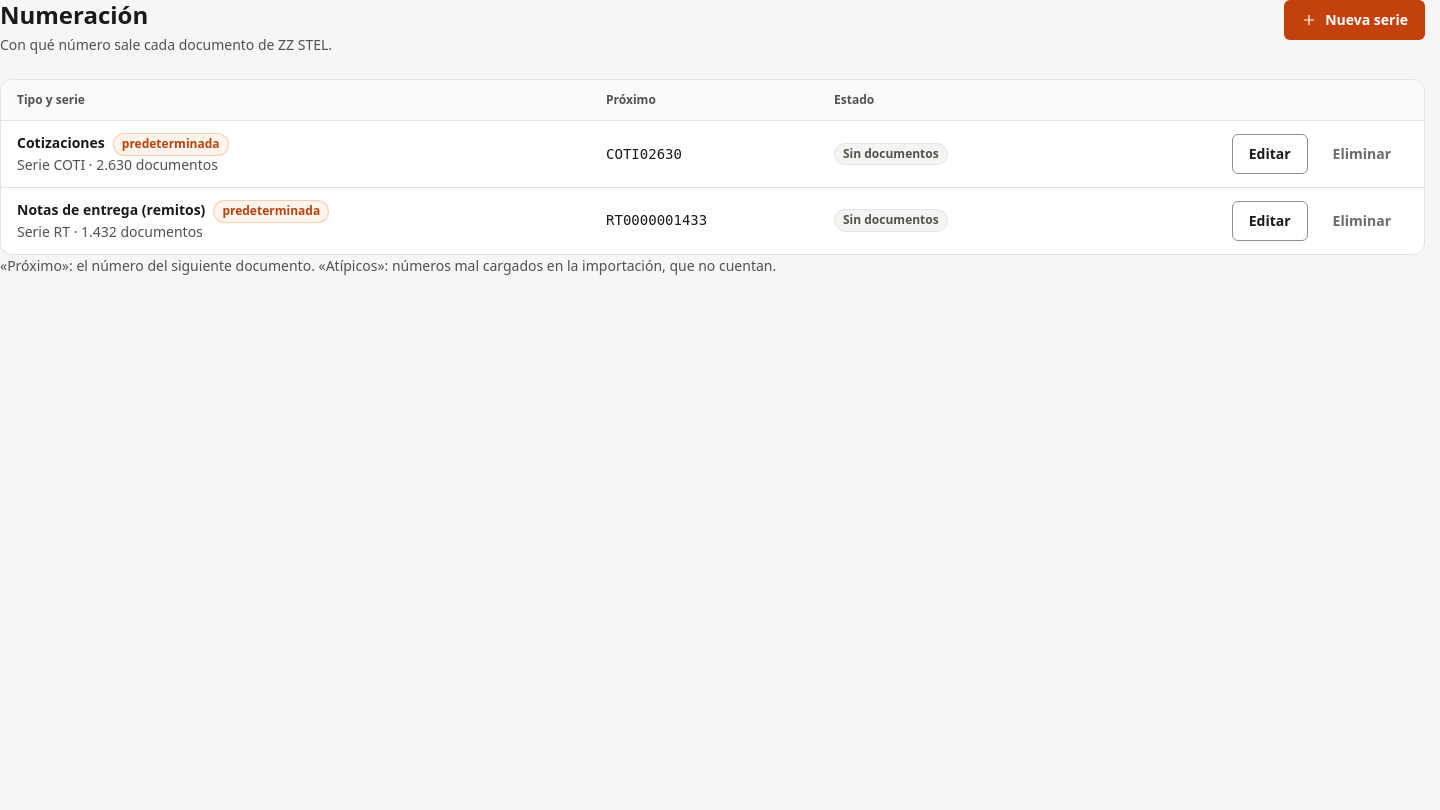
Numeración: editar (Fase 58 · E3) › un prefijo con espacios tampoco sale
The image size is (1440, 810).
Click the button "Editar" in the row of "Cotizaciones": (1270,154) x1=1232 y1=134 x2=1308 y2=174
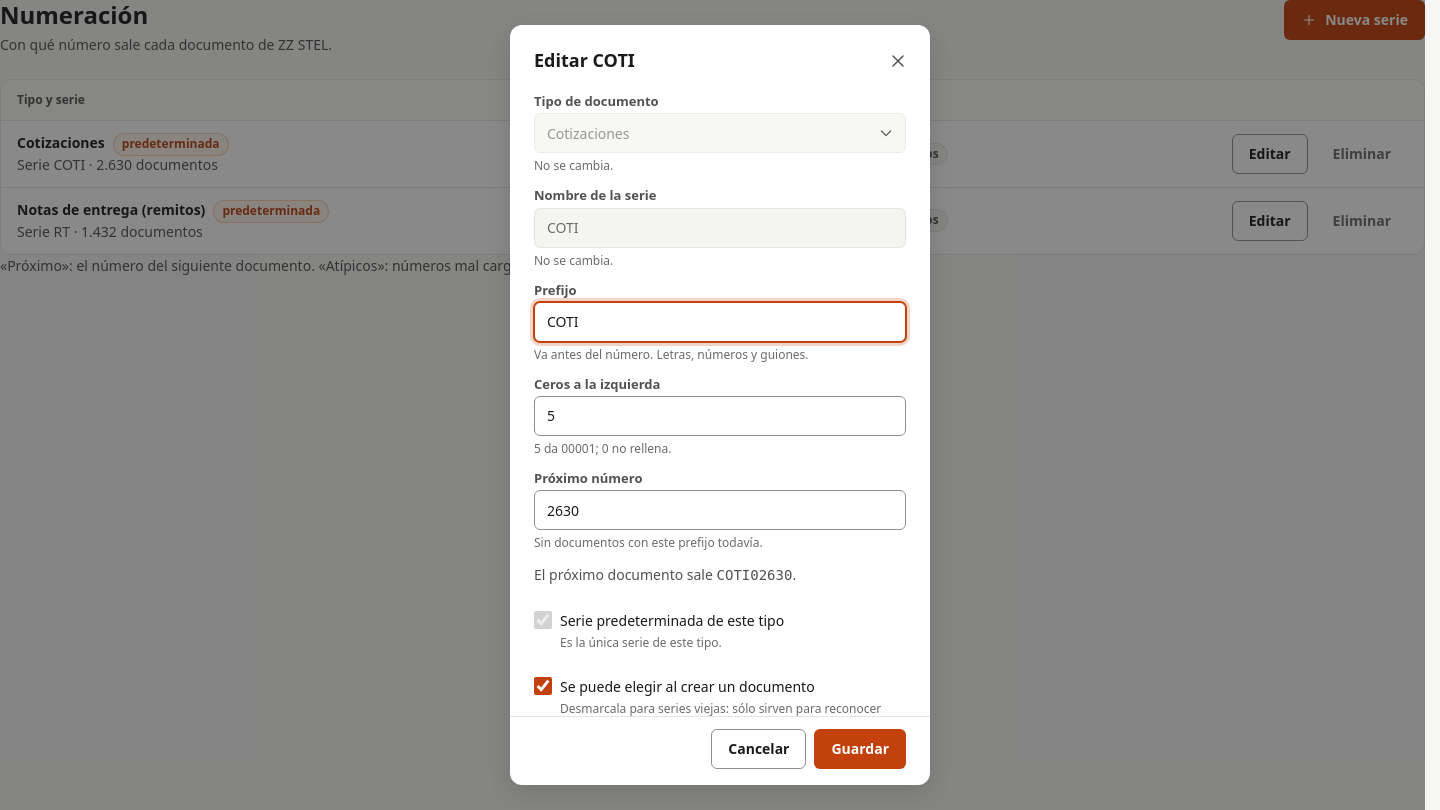
Replace the text in the field labelled "Prefijo" with "CO TI": (720,322) x1=534 y1=302 x2=906 y2=342
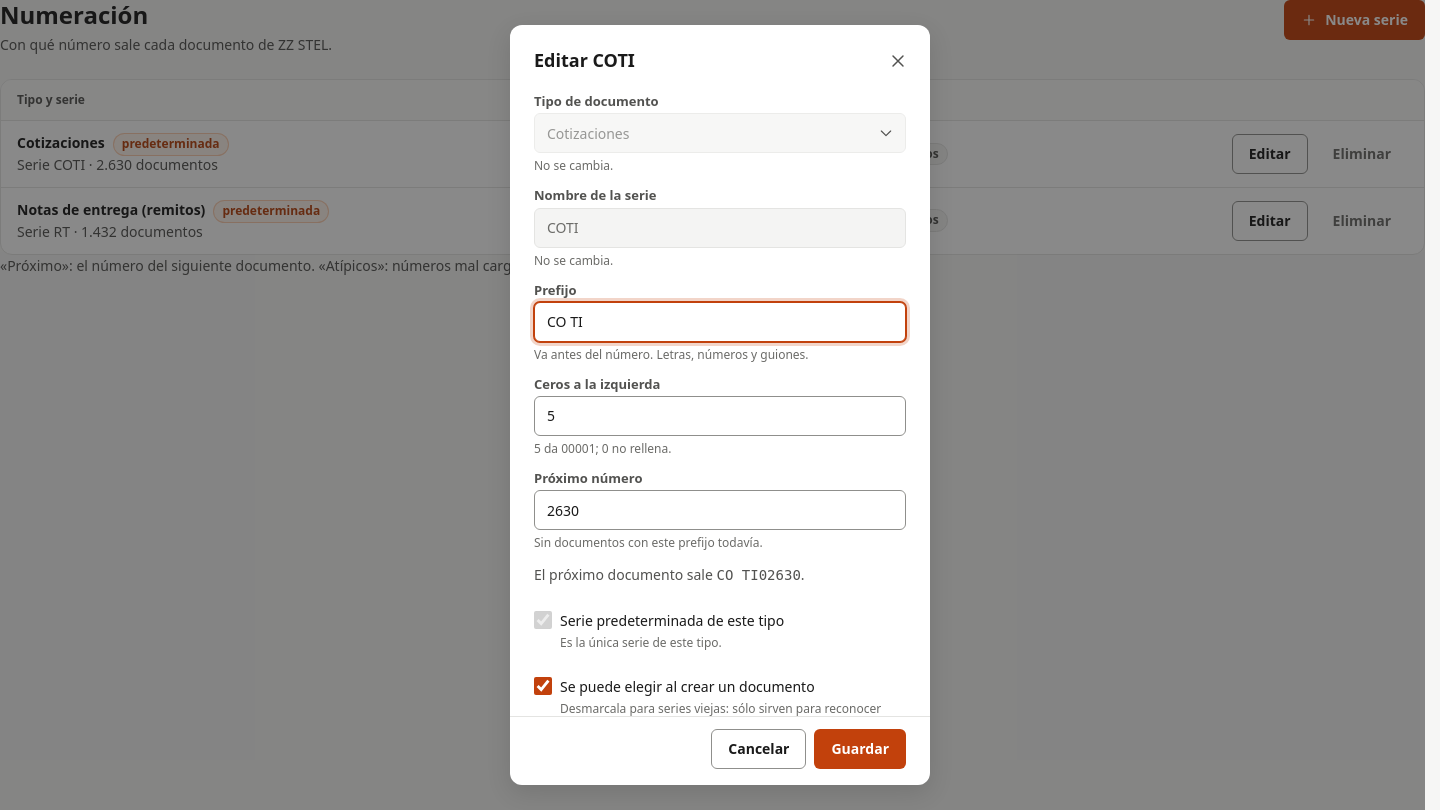
Click the button "Guardar": (860,749) x1=814 y1=729 x2=906 y2=769
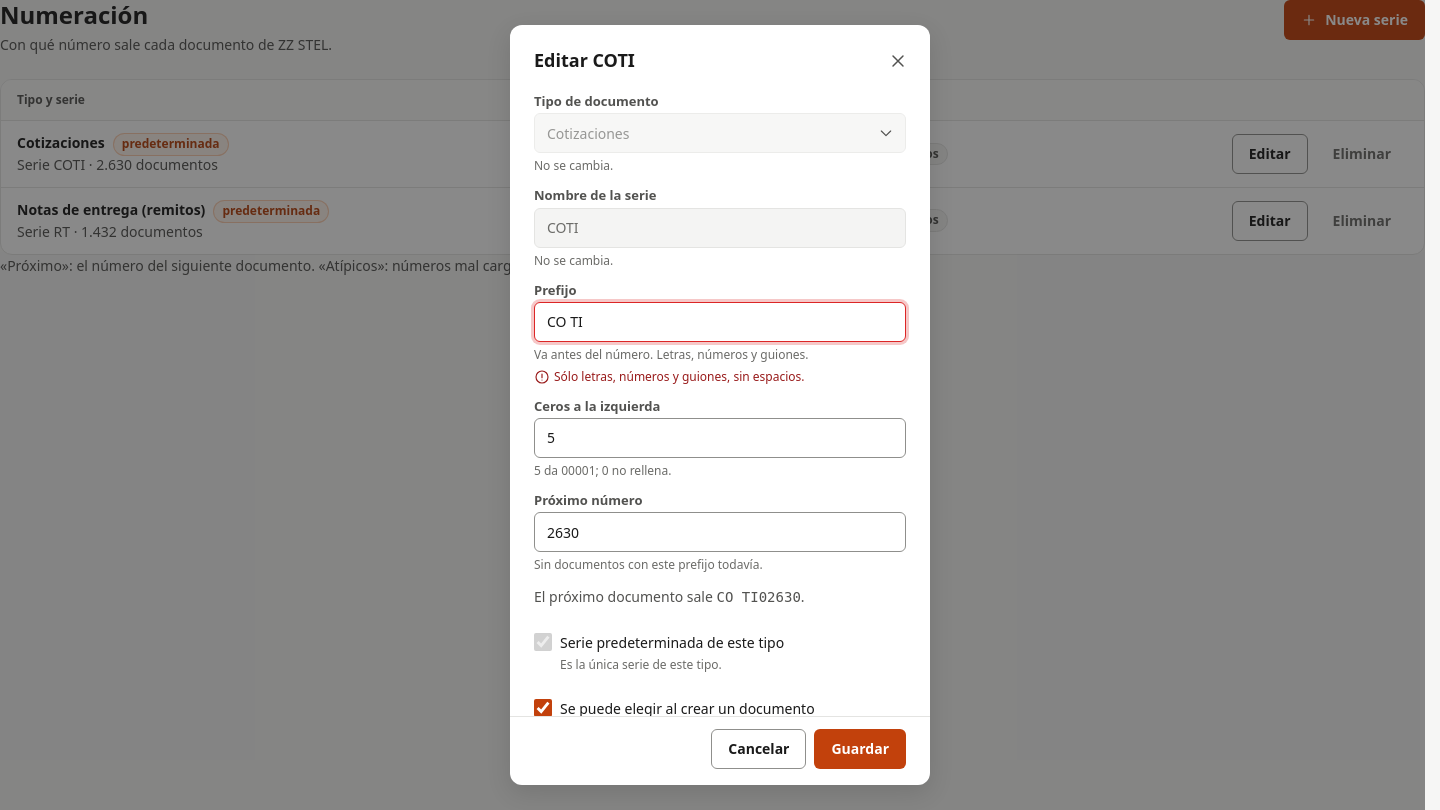
expect the text "Sólo letras, números y guiones, sin espacios." is shown: met, box x1=554 y1=368 x2=804 y2=386
